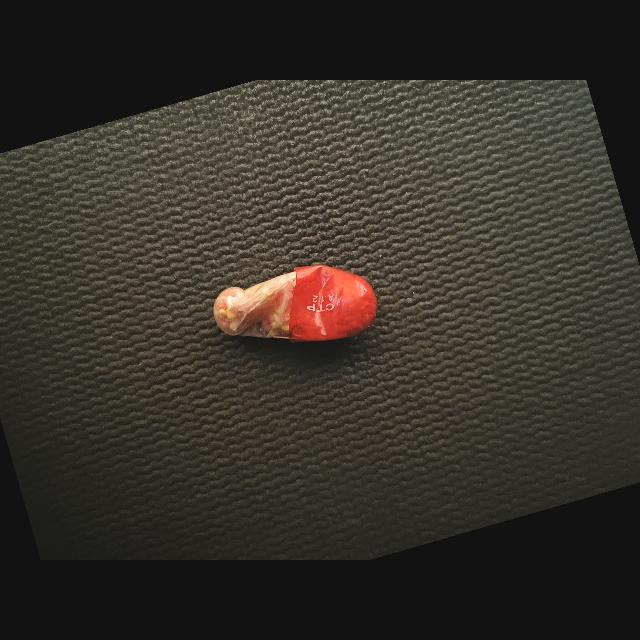Defective Capsule: (213, 265, 377, 342)
